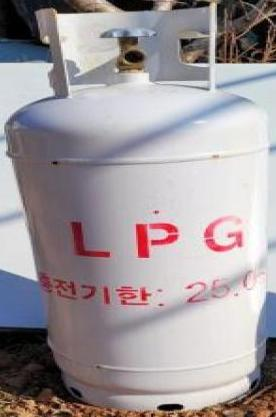cylinder: (1, 0, 276, 417)
